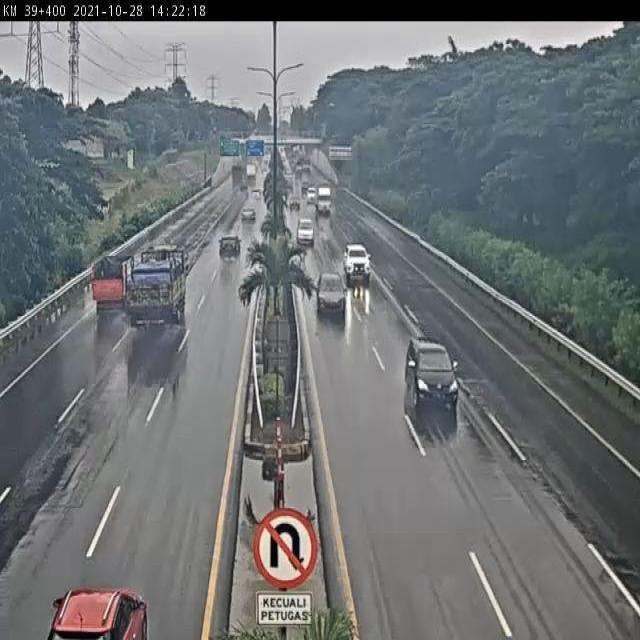car: (400, 336, 461, 411), (314, 272, 351, 321), (343, 241, 374, 283), (296, 216, 317, 248)
truck: (122, 247, 191, 331), (89, 255, 134, 313)
